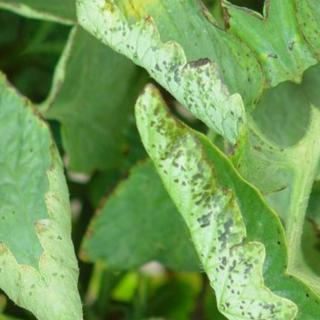Tomato leaf bacterial spot: (110, 53, 302, 306), (70, 0, 289, 190)
